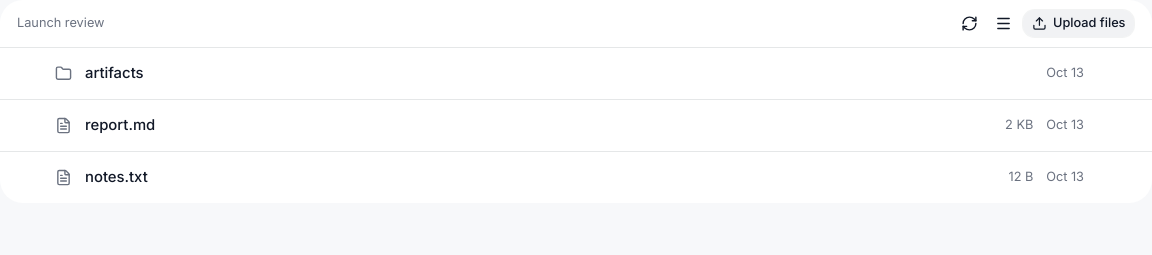
Test case: FileBrowser › keeps the occasional actions in the menu
This screenshot has width=1152, height=255.
Expected: the text "artifacts" is shown, [85,64,144,82]
Expected: the button "New folder" is not shown
Click the button named "More actions" at (1003, 23), box [988,8,1018,38]
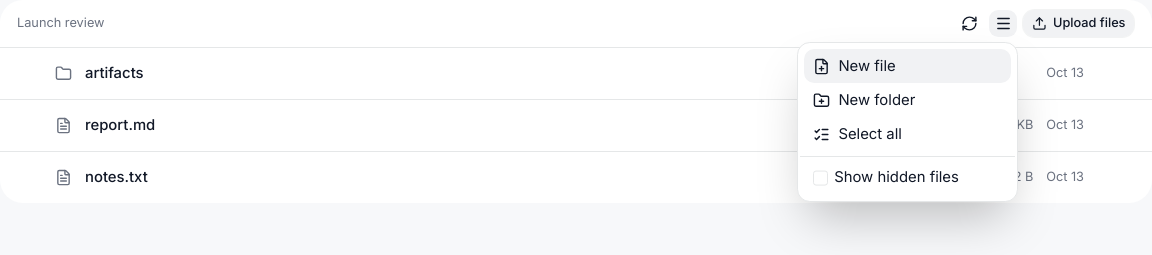
Result: the menu item "New folder" is shown at [813,91,915,109]
Result: the menu item "Select all" is shown at [813,125,902,143]
Result: the menu item "Show hidden files" is shown at [813,168,959,186]
